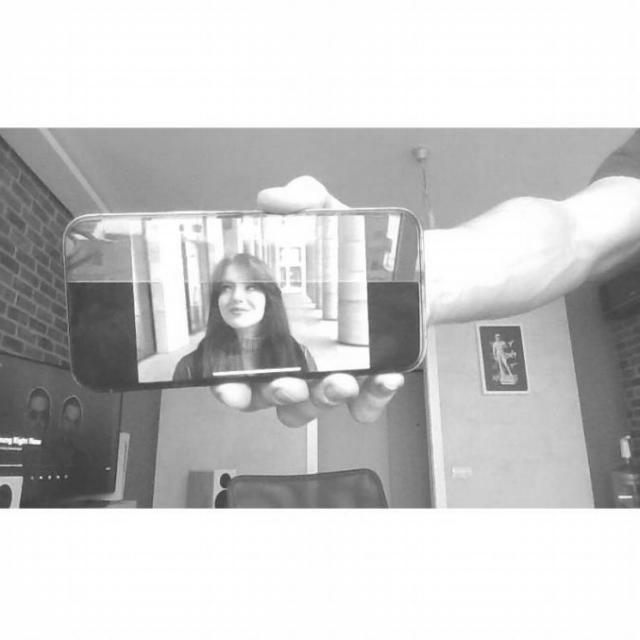fake: (54, 196, 450, 404)
